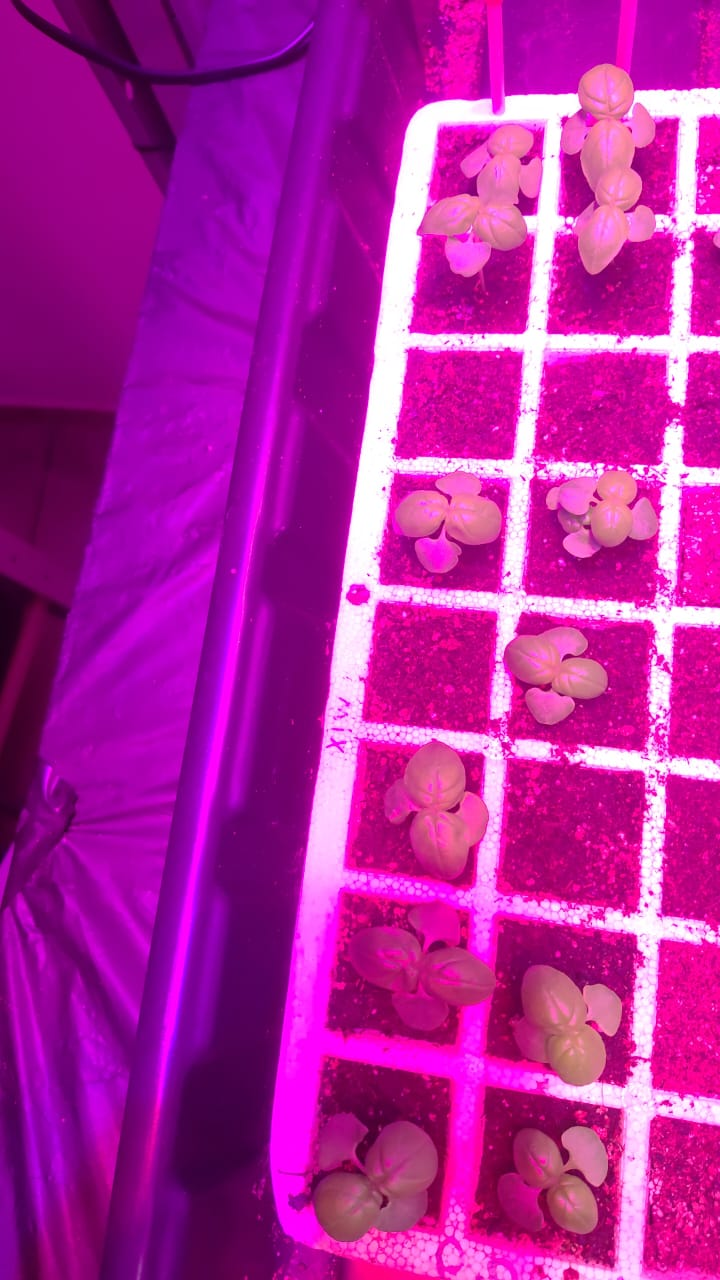Folha: (390, 487, 449, 536), (525, 686, 574, 726), (415, 536, 459, 574)
Germinacao: (376, 728, 499, 885), (512, 955, 632, 1079), (577, 127, 630, 220), (515, 623, 575, 703), (577, 472, 630, 562), (577, 227, 630, 277), (578, 627, 611, 702), (523, 686, 575, 726), (545, 473, 574, 544), (515, 372, 549, 423), (578, 62, 618, 102), (517, 136, 535, 207), (504, 588, 539, 624), (585, 332, 624, 357), (577, 113, 630, 129), (517, 344, 537, 371), (560, 120, 573, 156), (517, 229, 533, 247)
